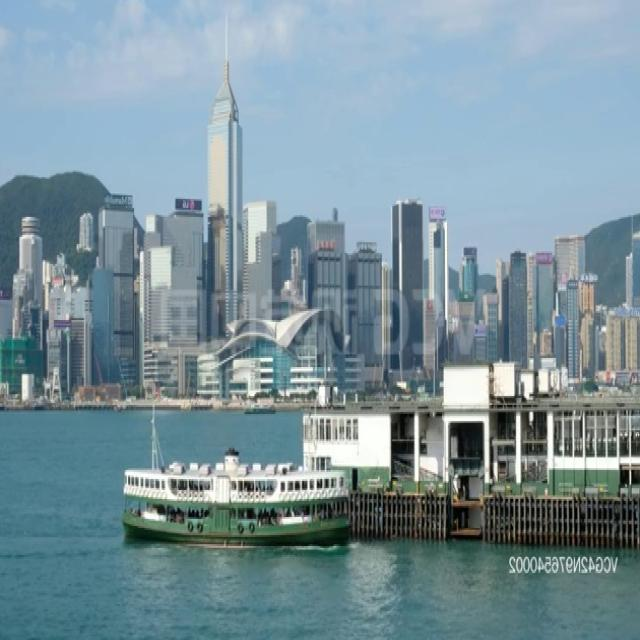passenger ship: (124, 438, 348, 552)
